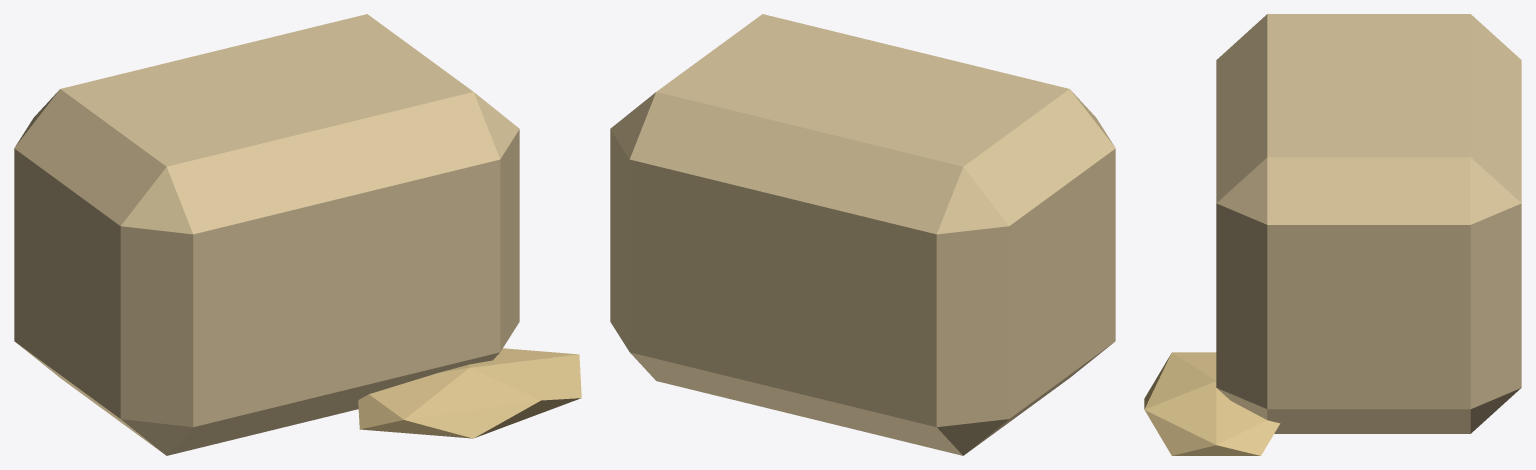
Rendered from grain_sack_open.fbx.
3 renders of one model, left to right at view 1: azimuth 30°, elevation 25°; view 2: azimuth 150°, elevation 25°; view 3: azimuth 270°, elevation 25°, orthographic. The views are drawn at different scales.
Parts seen in each view (by area): view 1: grain_sack_open; view 2: grain_sack_open; view 3: grain_sack_open.
Part boxes in pixels (x1,y1,x2,y2): grain_sack_open: (14, 14, 581, 455); grain_sack_open: (610, 14, 1115, 455); grain_sack_open: (1144, 14, 1521, 455).
Bounding box in the file's own units: 0.2816 × 0.185 × 0.2225.
